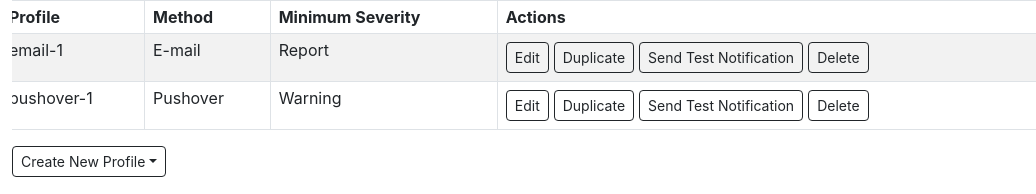
Test: NotificationEditor › deletes profile with confirmation
The width and height of the screenshot is (1036, 194).
# Click Delete button for first profile
Click the button "Delete" in the row of "email-1". click: (838, 58)
box: [808, 42, 868, 73]
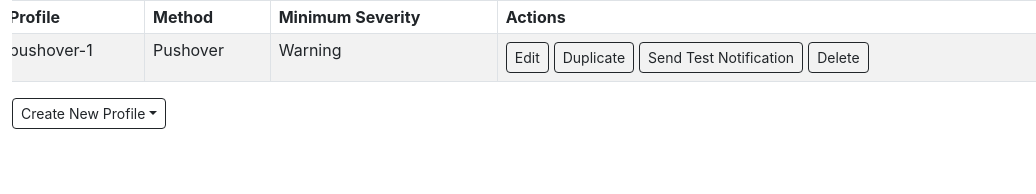
expect the text "email-1" is gone: met
